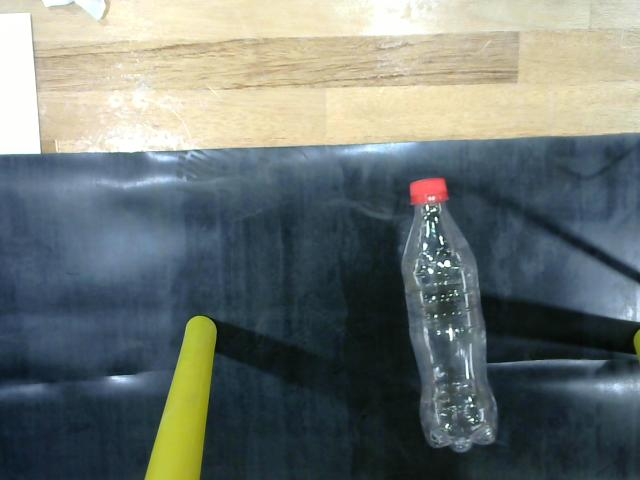bottle: (386, 161, 509, 457)
